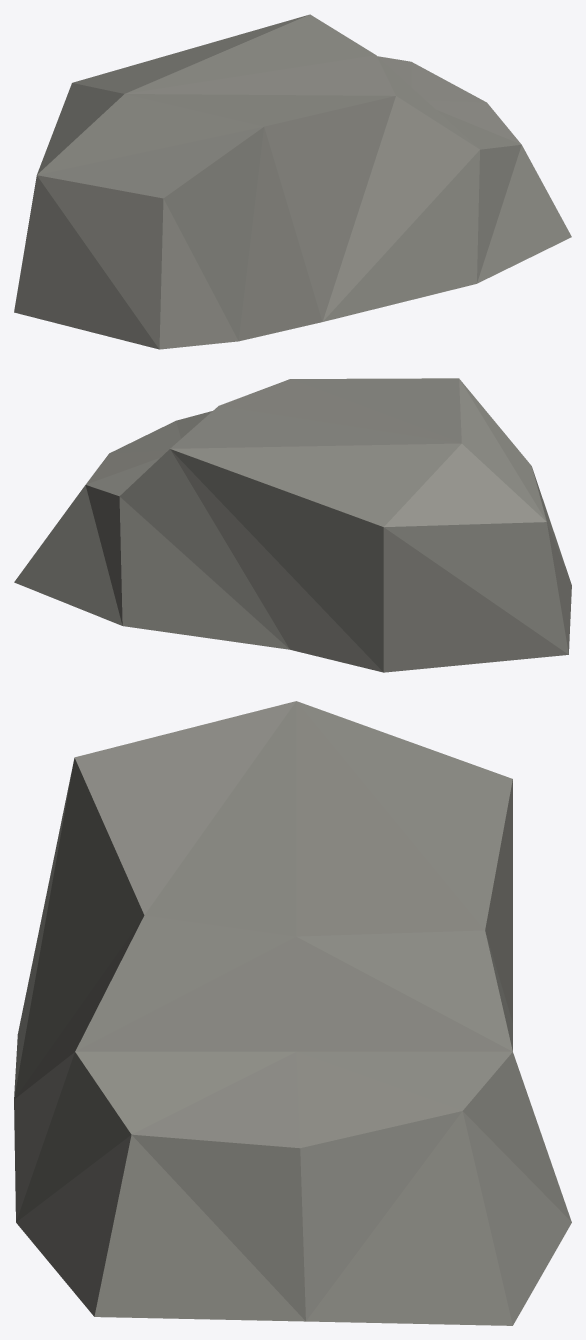
File: rock_c.gltf
The picture shows the model from 3 angles, top to bottom: view 1: azimuth 30°, elevation 25°; view 2: azimuth 150°, elevation 25°; view 3: azimuth 270°, elevation 25°; orthographic projection. The views are drawn at different scales.
Visible parts, largest first — view 1: rock_c001; view 2: rock_c001; view 3: rock_c001.
Boxes of the visible parts, x1,y1,x2,y2 form: rock_c001: [14, 14, 571, 349]; rock_c001: [14, 378, 571, 672]; rock_c001: [14, 701, 571, 1325].
Size of the model in its own units: 0.3416 by 0.1233 by 0.2005.
Materials: 1 (1 with a texture image).
